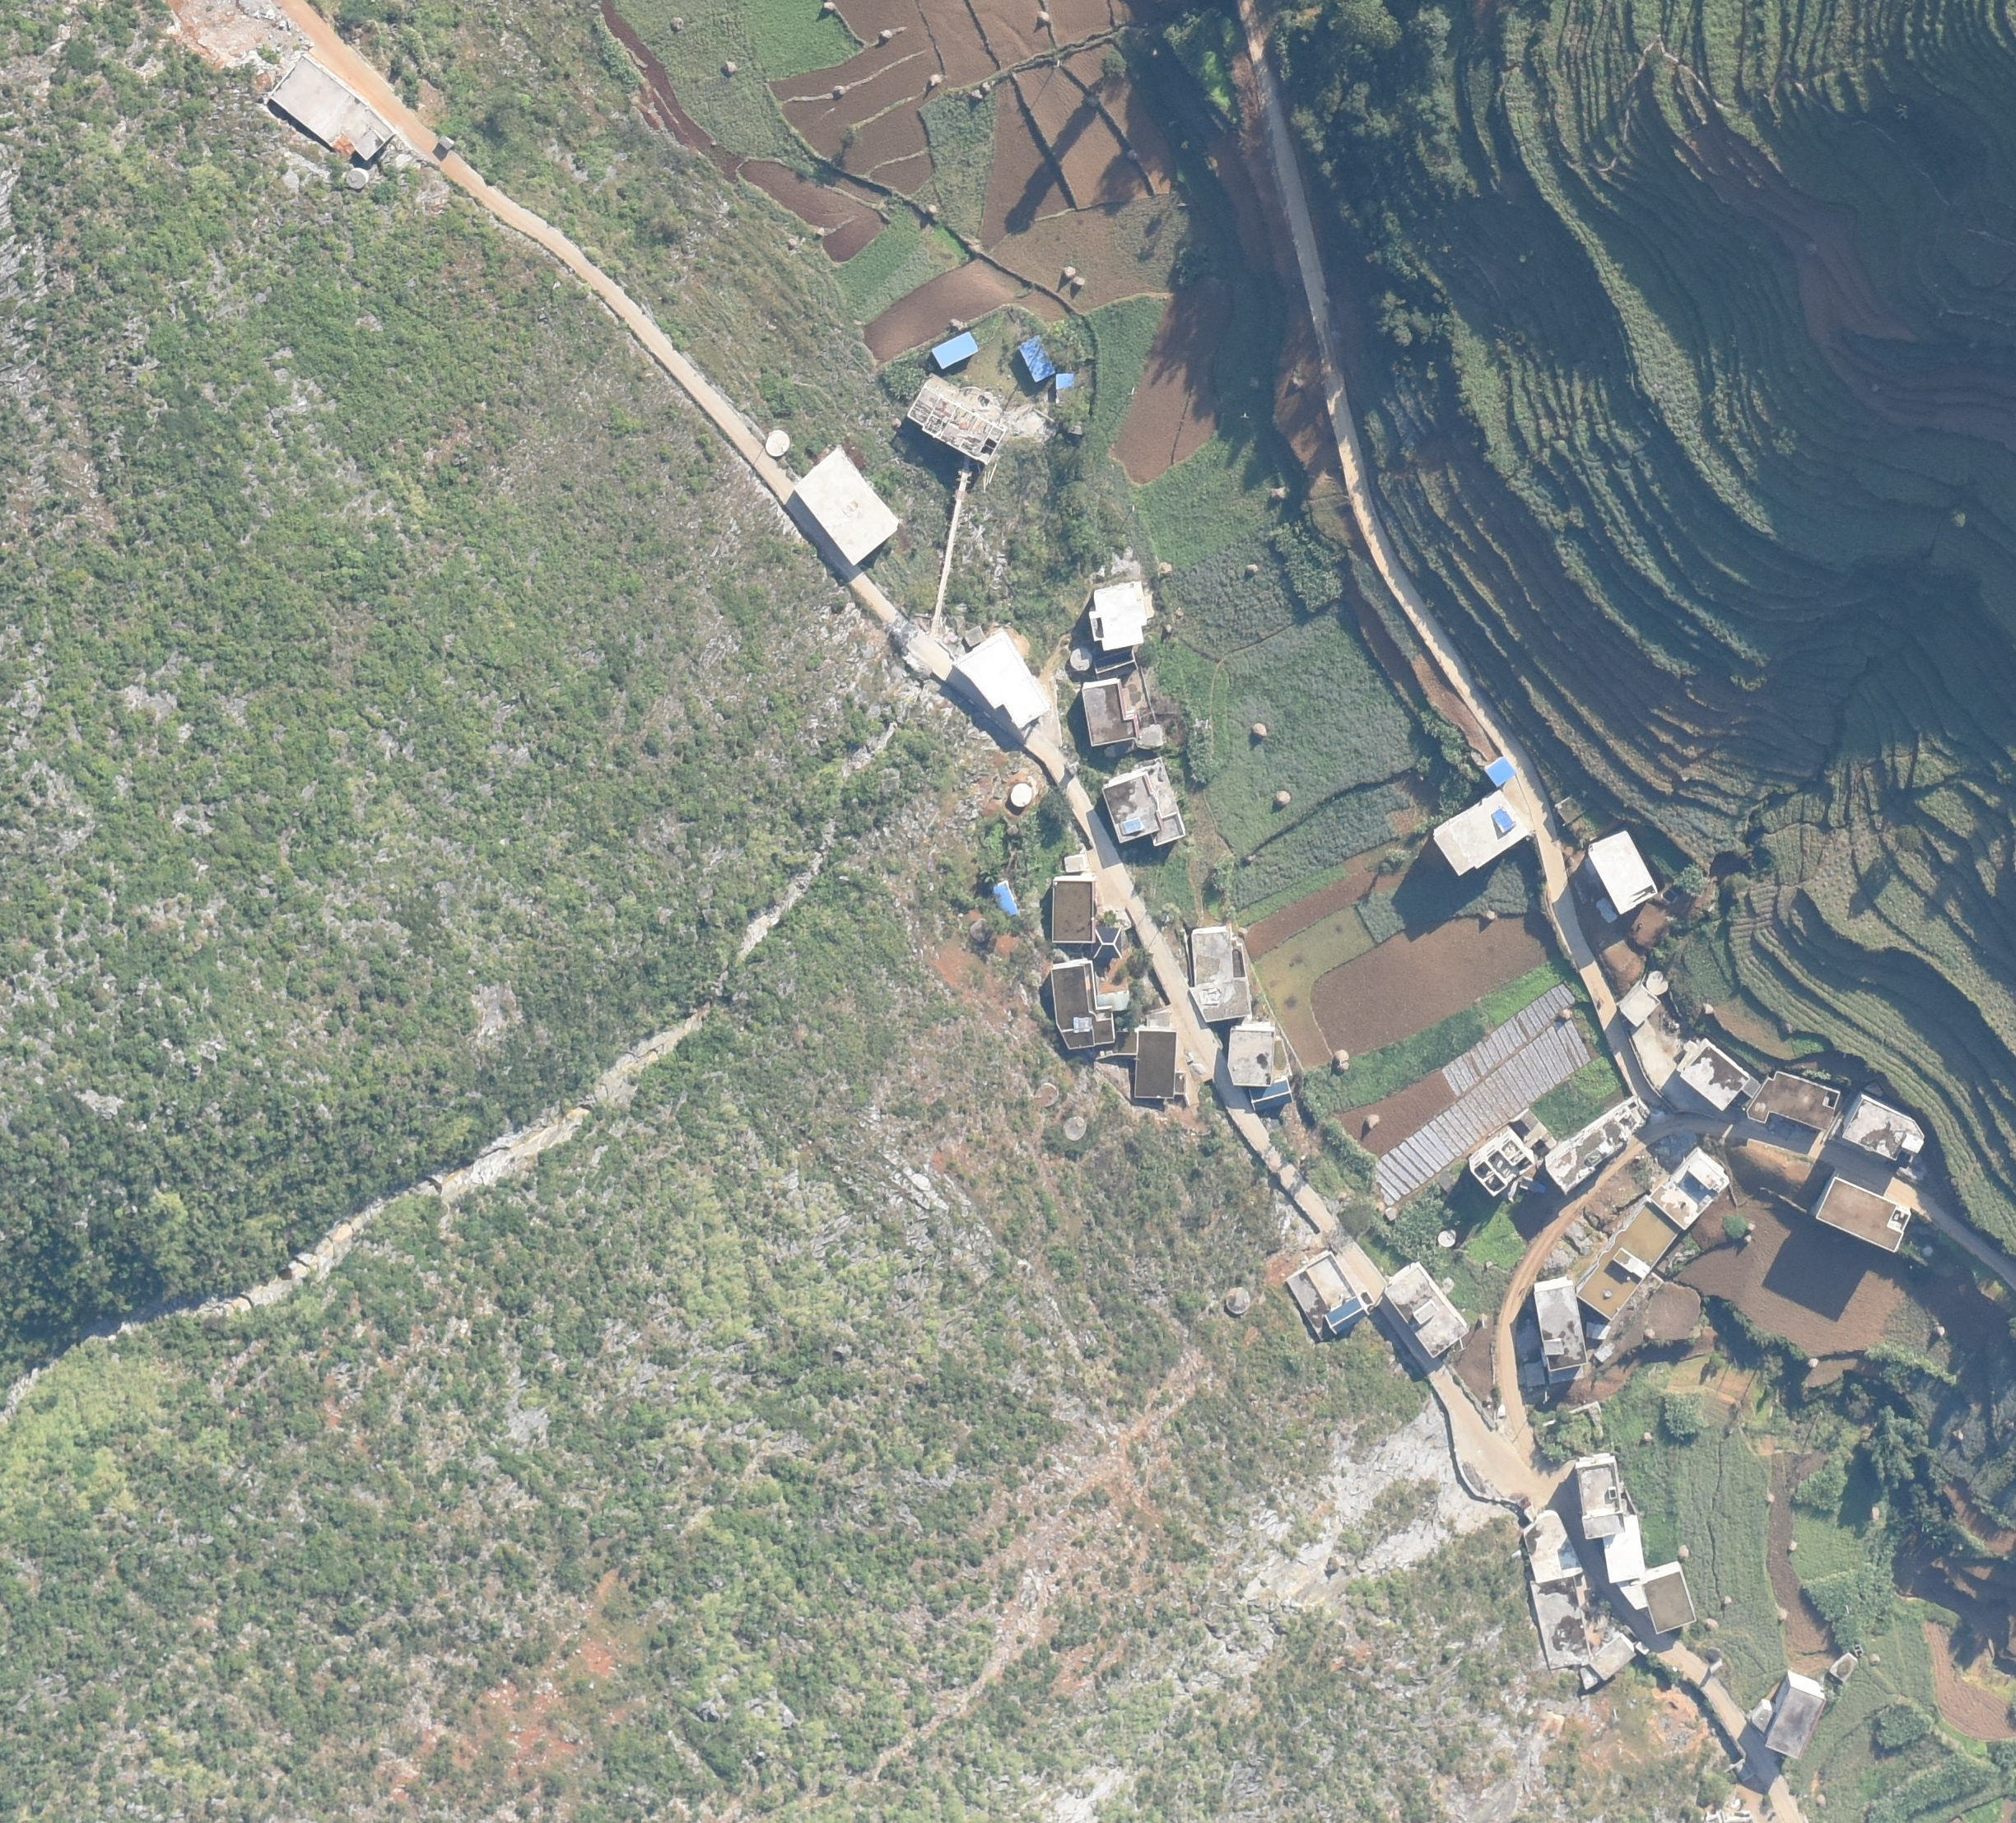building: (268, 50, 393, 160), (1576, 1202, 1682, 1319), (795, 448, 901, 562), (1548, 1100, 1649, 1193), (959, 629, 1047, 729), (1432, 789, 1528, 875), (1384, 1264, 1469, 1359), (907, 383, 1005, 463), (1287, 1254, 1371, 1341), (1812, 1178, 1908, 1252), (1465, 1109, 1551, 1191), (1752, 1667, 1826, 1756), (1676, 1035, 1755, 1117), (1106, 762, 1183, 844), (1585, 828, 1655, 916), (1050, 959, 1119, 1047), (1648, 1151, 1728, 1227), (1745, 1071, 1841, 1132), (1840, 1100, 1924, 1166), (1190, 928, 1250, 1021), (1528, 1580, 1590, 1667), (1534, 1280, 1590, 1371), (1110, 1026, 1178, 1097), (1620, 1566, 1692, 1632), (1575, 1453, 1627, 1541), (1091, 583, 1152, 649), (1525, 1510, 1580, 1580), (1081, 679, 1138, 741), (1055, 856, 1096, 941), (1582, 1635, 1637, 1691), (1599, 1515, 1643, 1583), (1231, 1027, 1276, 1086), (1618, 986, 1658, 1024), (1249, 1082, 1296, 1109), (1093, 927, 1124, 959)
prefabricated-house: (931, 331, 978, 367), (1021, 333, 1054, 382), (989, 880, 1018, 924), (1487, 755, 1515, 787), (1056, 372, 1076, 411)
well: (765, 427, 792, 456), (1225, 1287, 1251, 1317), (1646, 970, 1671, 997), (1033, 1084, 1059, 1108), (1063, 1116, 1088, 1140), (344, 165, 367, 190), (1070, 649, 1093, 671), (1009, 784, 1032, 806), (1437, 1228, 1455, 1247)
